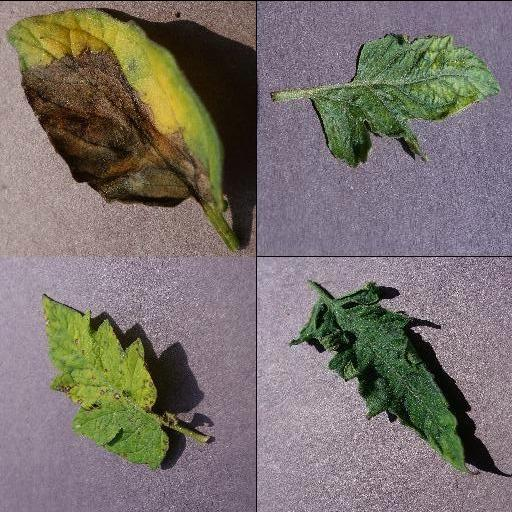Late Blight: (3, 9, 227, 211)
Mosaic Virus: (288, 279, 478, 477), (309, 34, 503, 170)
Septoria: (41, 294, 169, 466)
